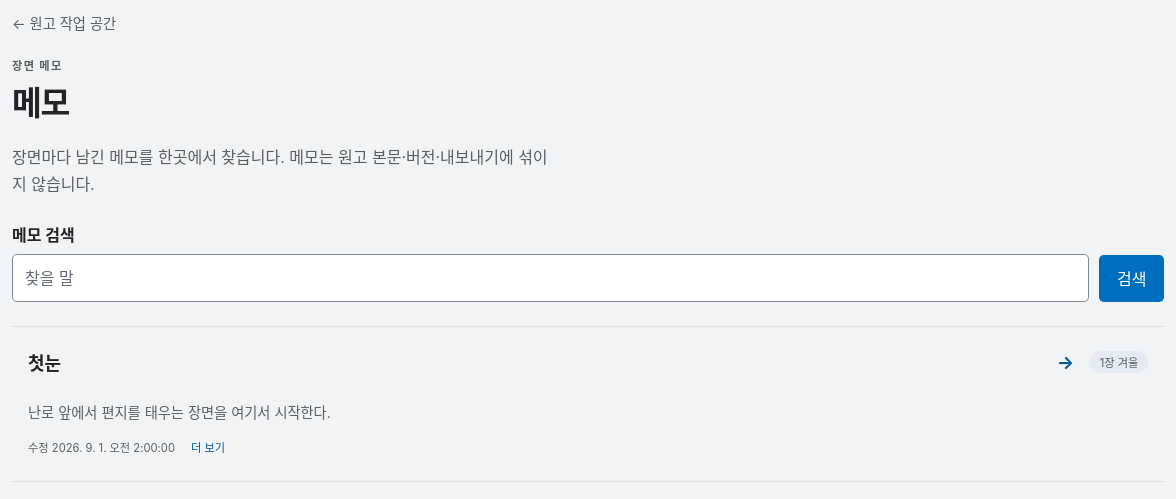
Test: 장면 메모 화면 › pulls the full body from the single-note GET and folds back to the preview
The width and height of the screenshot is (1176, 499).
Expected: the link "첫눈 →" is shown, [28,352,1074,374]
Click the button "더 보기". click: (208, 446)
box: [191,428,225,464]
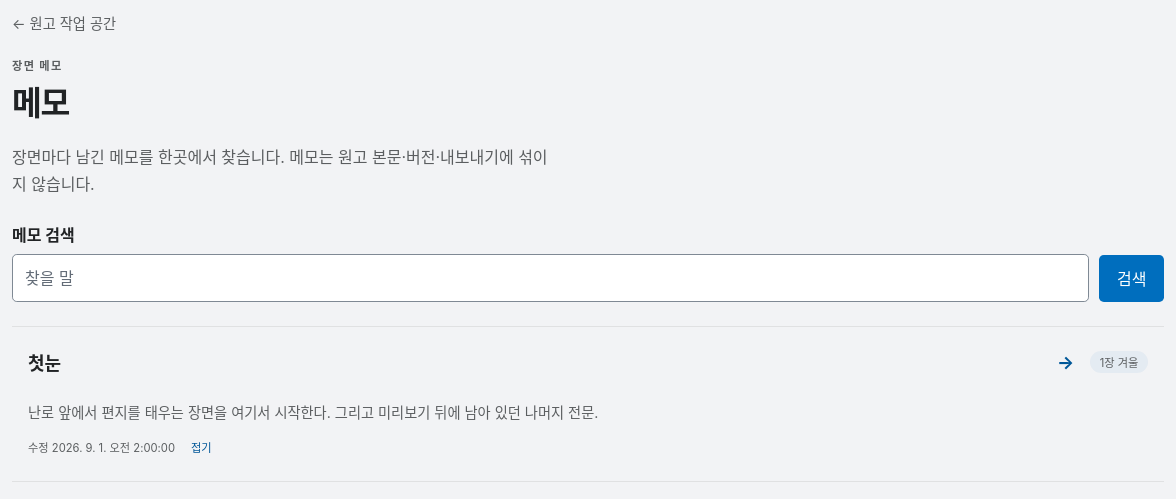
Expected: the text "난로 앞에서 편지를 태우는 장면을 여기서 시작한다. 그리고 미리보기 뒤에 남아 있던 나머지 전문." is shown, [28,404,598,421]
Click the button "접기". click: (201, 446)
box: [191,428,212,464]
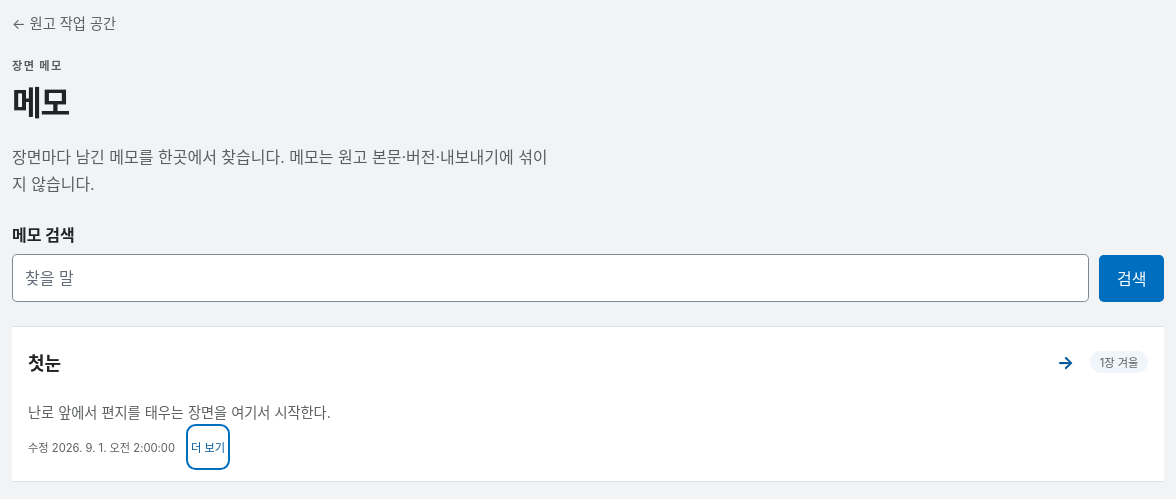
Expected: the text "난로 앞에서 편지를 태우는 장면을 여기서 시작한다." is shown, [28,404,331,421]
Expected: the text "미리보기 뒤에 남아 있던 나머지 전문" is gone
